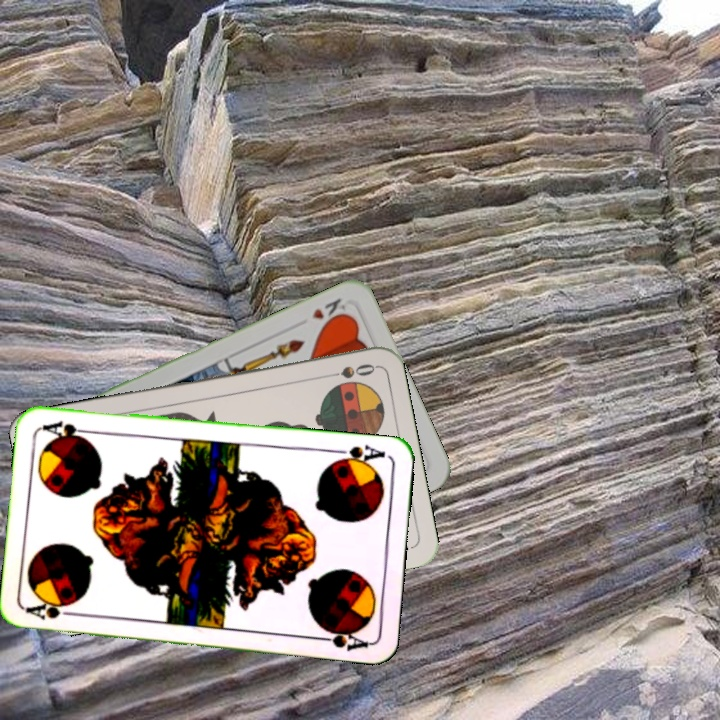HK: (307, 294, 353, 329)
SA: (328, 441, 388, 469), (23, 598, 83, 622)
SO: (319, 360, 378, 381)
